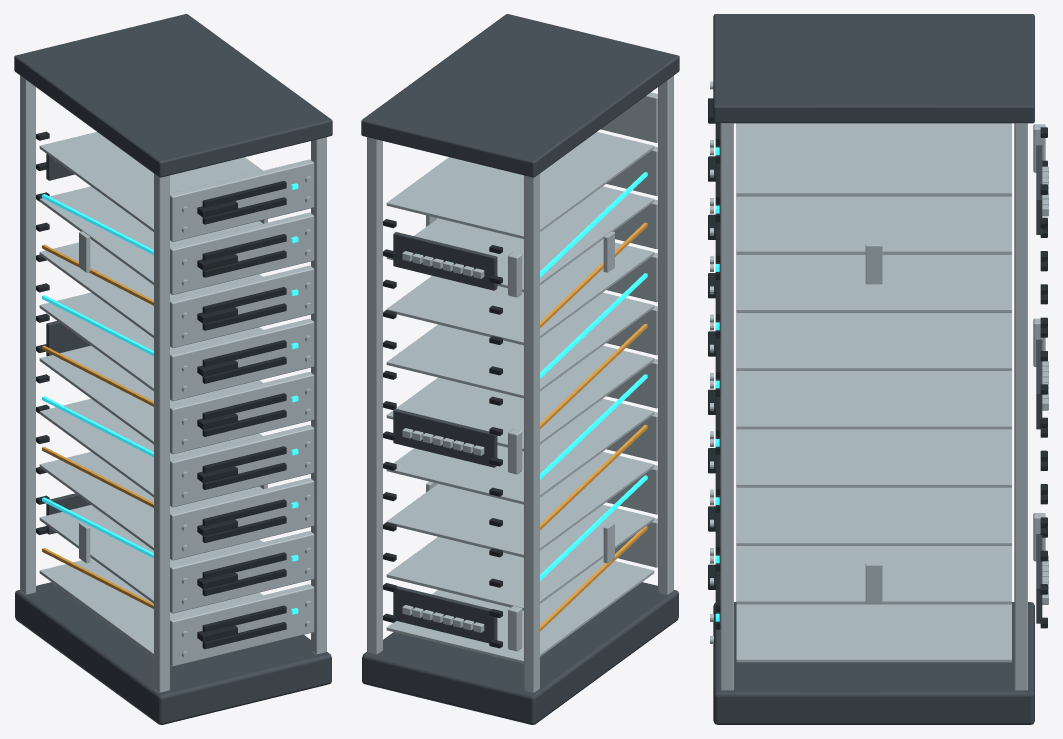
File: data-centre-infiltration-kit-data-centre-infiltration--89abde08__29229.glb
3 views of the same model, side by side, from view 1: azimuth 30°, elevation 25°; view 2: azimuth 150°, elevation 25°; view 3: azimuth 270°, elevation 25° (orthographic). The views are drawn at different scales.
Parts seen in each view (by area): view 1: data-centre-infiltration-kit-open-service-rack; view 2: data-centre-infiltration-kit-open-service-rack; view 3: data-centre-infiltration-kit-open-service-rack.
Boxes of the visible parts, left/top/right/bottom form: data-centre-infiltration-kit-open-service-rack: left=14, top=14, right=332, bottom=724; data-centre-infiltration-kit-open-service-rack: left=361, top=14, right=679, bottom=724; data-centre-infiltration-kit-open-service-rack: left=708, top=14, right=1048, bottom=724.
Bounding box in the file's own units: 0.754 × 2.23 × 1.11.
